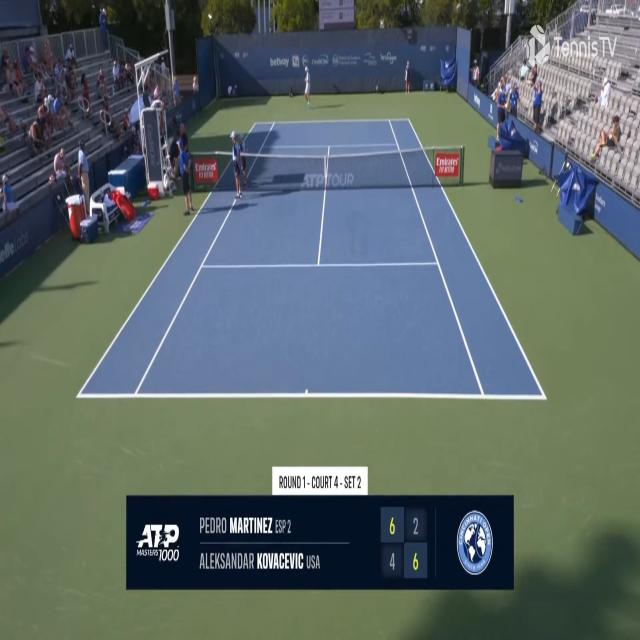tennis-player: (303, 65, 312, 108)
